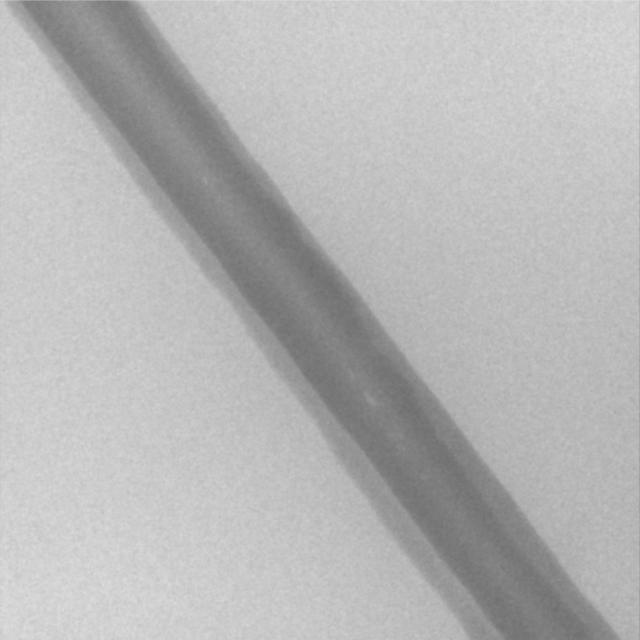air hole: (363, 392, 377, 408)
